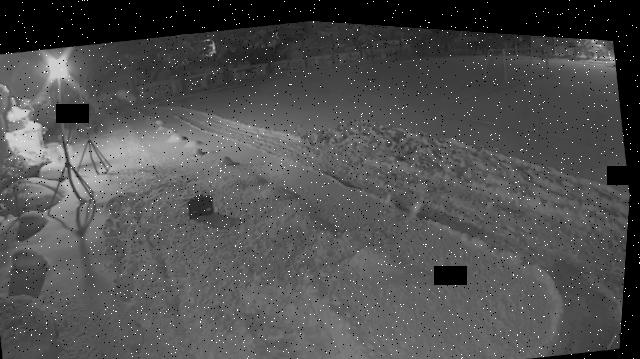bag: (188, 187, 219, 216)
